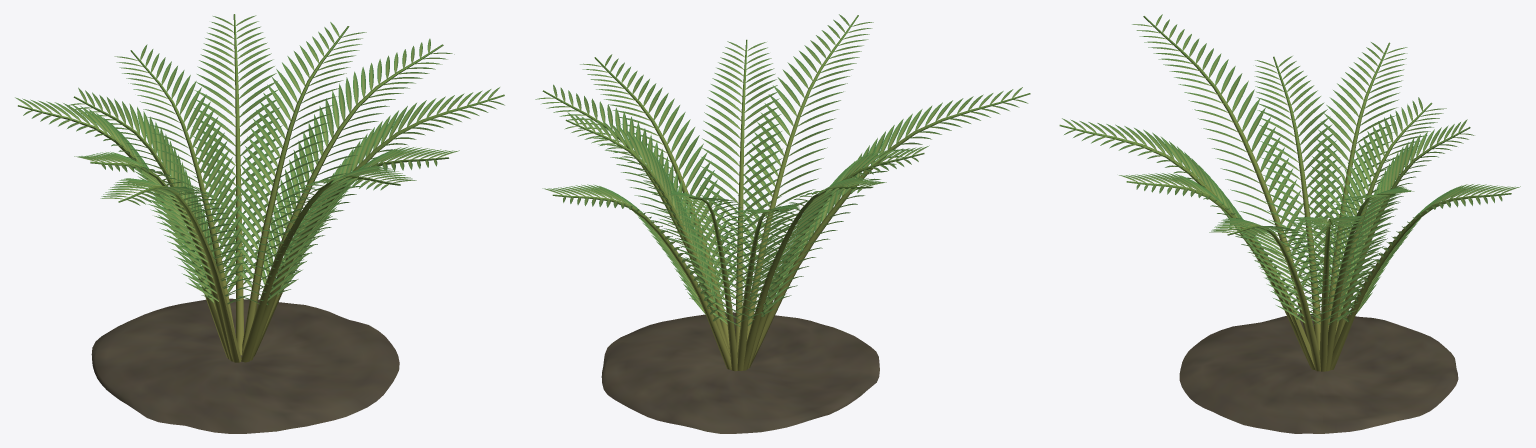
File: golpata-nypa-palm.glb
3 renders of one model, left to right at view 1: azimuth 30°, elevation 25°; view 2: azimuth 150°, elevation 25°; view 3: azimuth 270°, elevation 25°, orthographic. The views are drawn at different scales.
Visible parts, largest first — view 1: golpata-leaf-upper, mud, rachis; view 2: golpata-leaf-upper, mud, rachis; view 3: golpata-leaf-upper, mud, rachis.
Part boxes in pixels (<box>): golpata-leaf-upper: <box>15,15,504,305</box>; mud: <box>91,298,399,433</box>; rachis: <box>18,14,504,362</box>; golpata-leaf-upper: <box>535,14,1028,327</box>; mud: <box>601,312,879,433</box>; rachis: <box>542,15,1030,371</box>; golpata-leaf-upper: <box>1062,14,1520,325</box>; mud: <box>1179,314,1458,433</box>; rachis: <box>1059,16,1511,371</box>.
Bounding box in the file's own units: 3.81 × 2.36 × 3.78.
